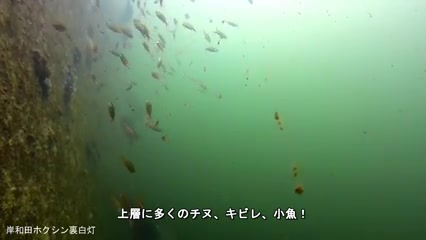smallfish: (131, 16, 154, 38), (102, 98, 120, 124), (177, 19, 201, 38), (152, 10, 170, 28), (211, 26, 228, 44)
